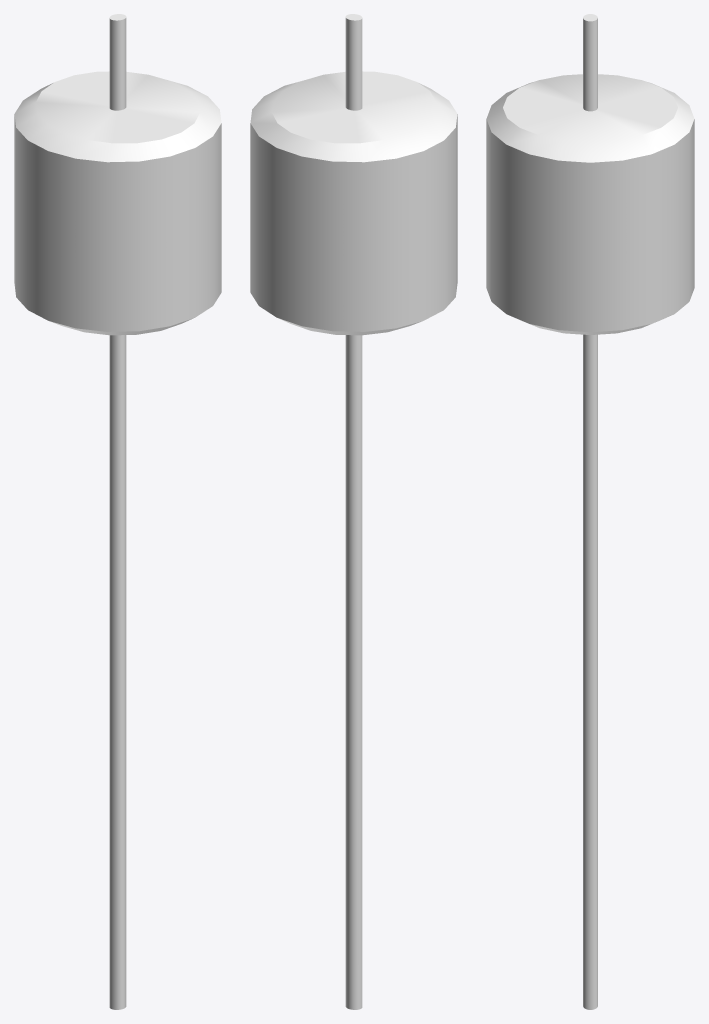
Rendered from camp_marshmallow.gltf.
The picture shows the model from 3 angles, left to right: view 1: azimuth 30°, elevation 25°; view 2: azimuth 150°, elevation 25°; view 3: azimuth 270°, elevation 25°; orthographic projection.
Parts seen in each view (by area): view 1: Object_2; view 2: Object_2; view 3: Object_2.
Part boxes in pixels (box(x1,y1,x2,y2)): Object_2: box(14, 14, 221, 1009); Object_2: box(250, 14, 457, 1009); Object_2: box(486, 14, 694, 1009).
Bounding box in the file's own units: 1 × 5.24 × 1.
1 material, 1 textured.
